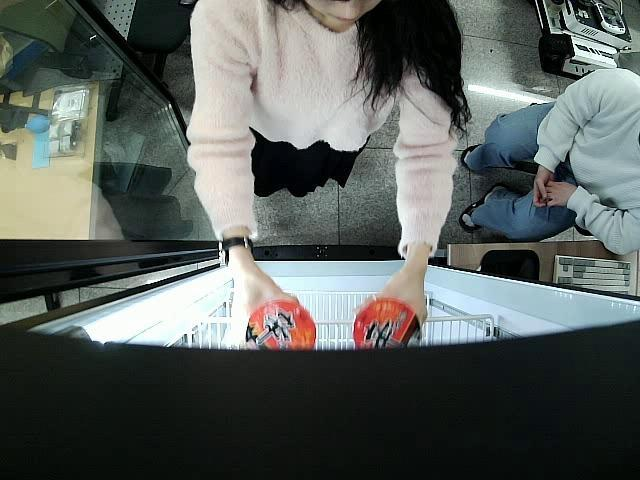02_shinRamen_S: (244, 300, 316, 354), (355, 298, 422, 352)
